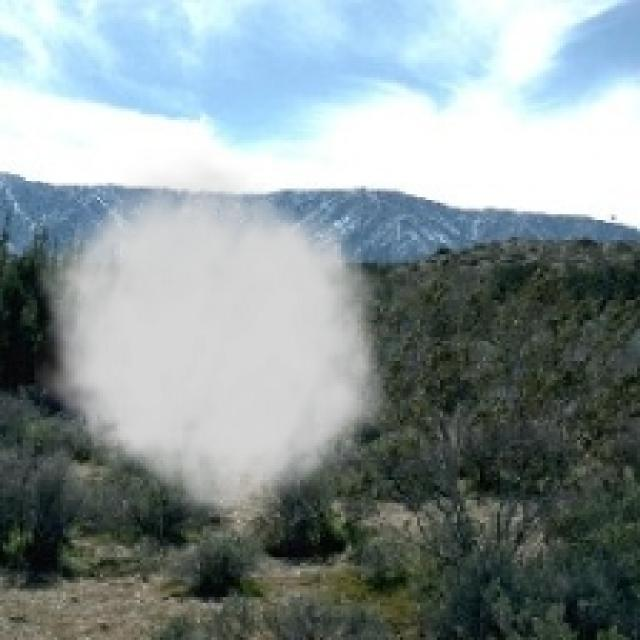smoke: (34, 148, 403, 528)
